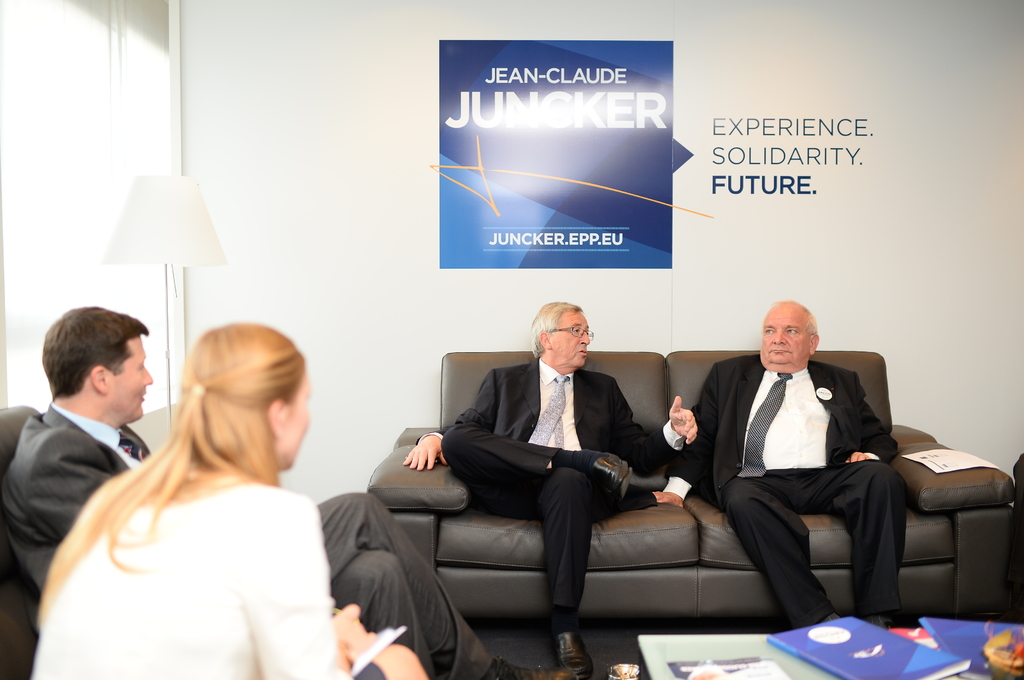Couch: (510, 356, 991, 644)
